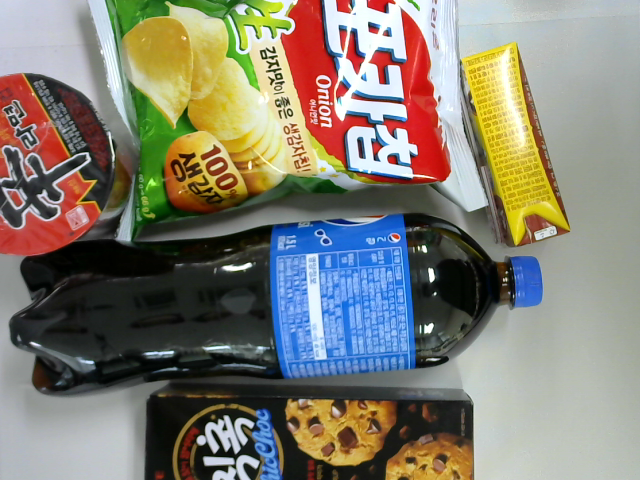Chicchok_Original_2400: (141, 380, 476, 480)
Choco_E_Mong: (458, 41, 573, 249)
Pepsi_Cola_1.5L: (8, 214, 546, 398)
Pocachip_Onion: (76, 1, 492, 245)
Sinramen_small: (1, 72, 132, 259)
